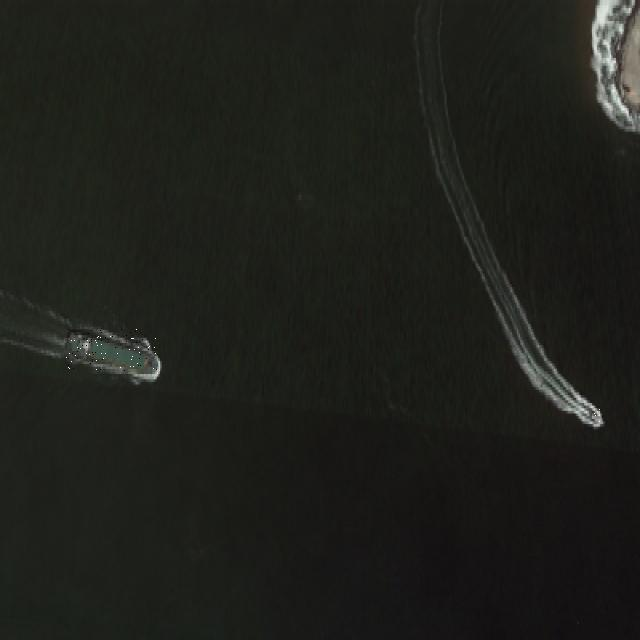boat: (64, 329, 158, 372), (589, 408, 603, 422)
